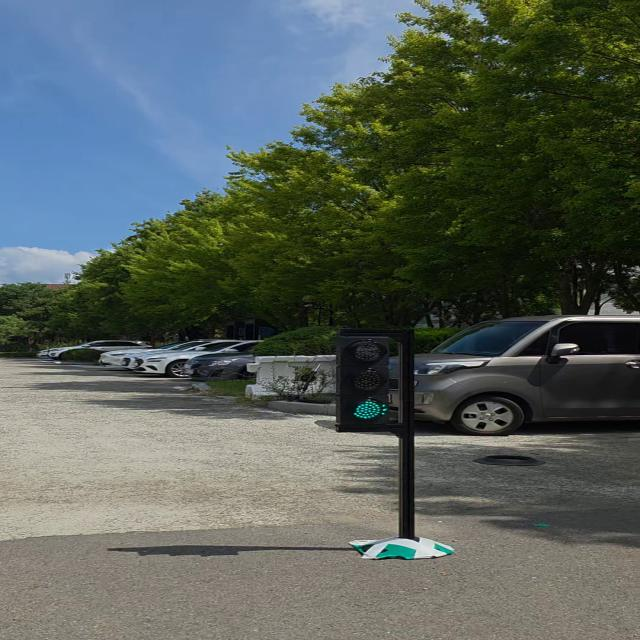green: (332, 332, 397, 431)
